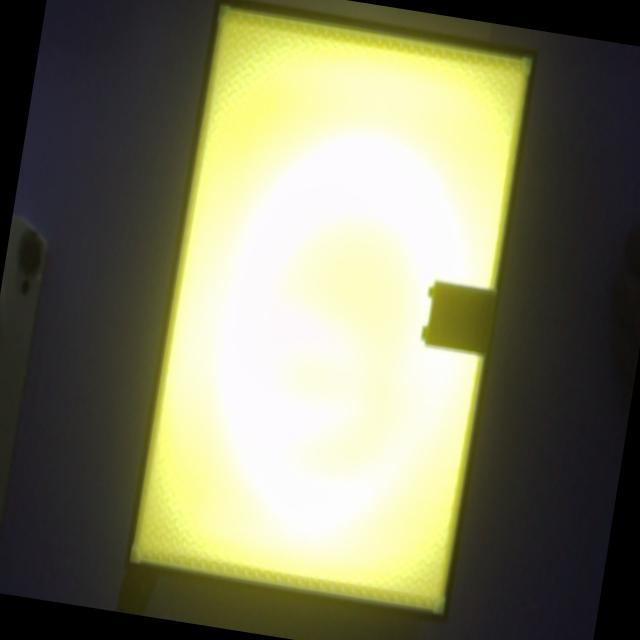bateria: (420, 278, 497, 358)
mesa: (124, 0, 537, 624)
